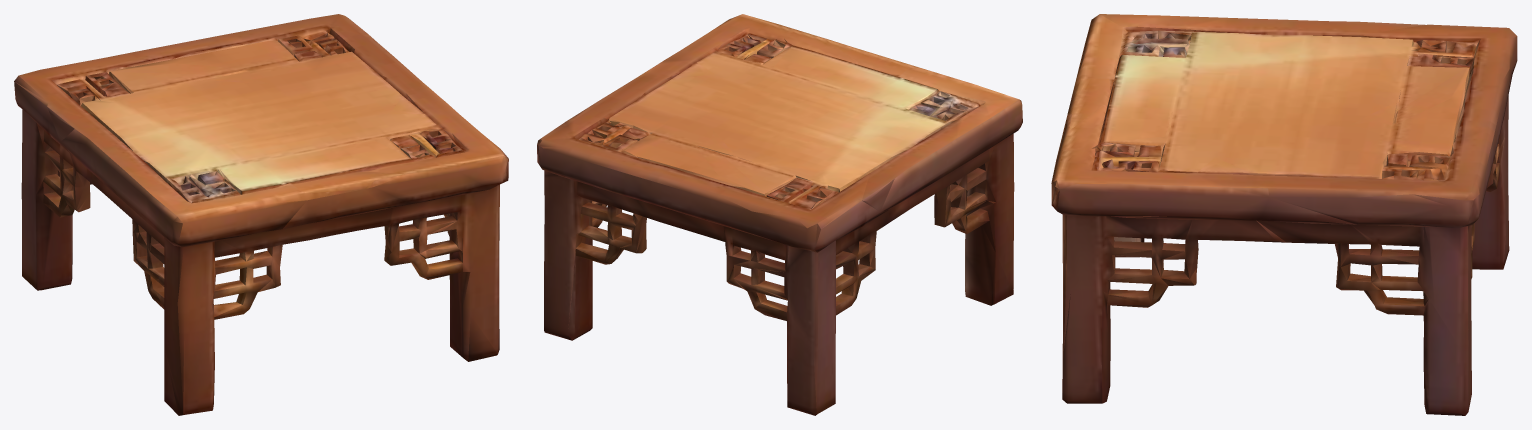
File: table20.glb
The picture shows the model from 3 angles, left to right: view 1: azimuth 30°, elevation 25°; view 2: azimuth 150°, elevation 25°; view 3: azimuth 270°, elevation 25°; orthographic projection. The views are drawn at different scales.
Size of the model in its own units: 0.2126 by 0.1213 by 0.2274.
1 material, 1 textured.
